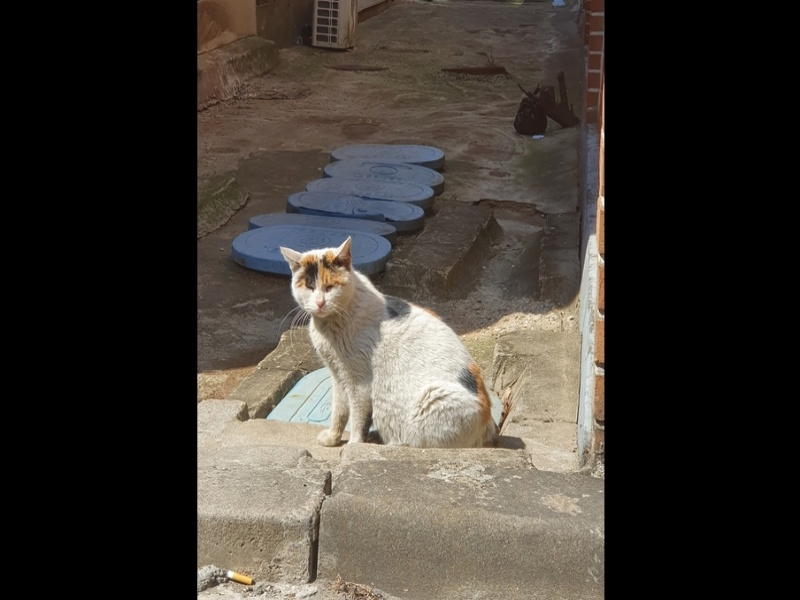cat: (275, 237, 509, 457)
